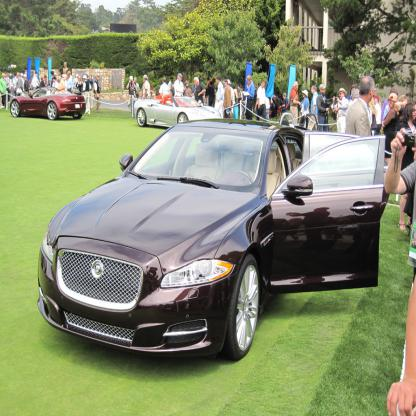Car: (37, 118, 393, 361), (134, 95, 222, 127), (10, 87, 86, 120)
